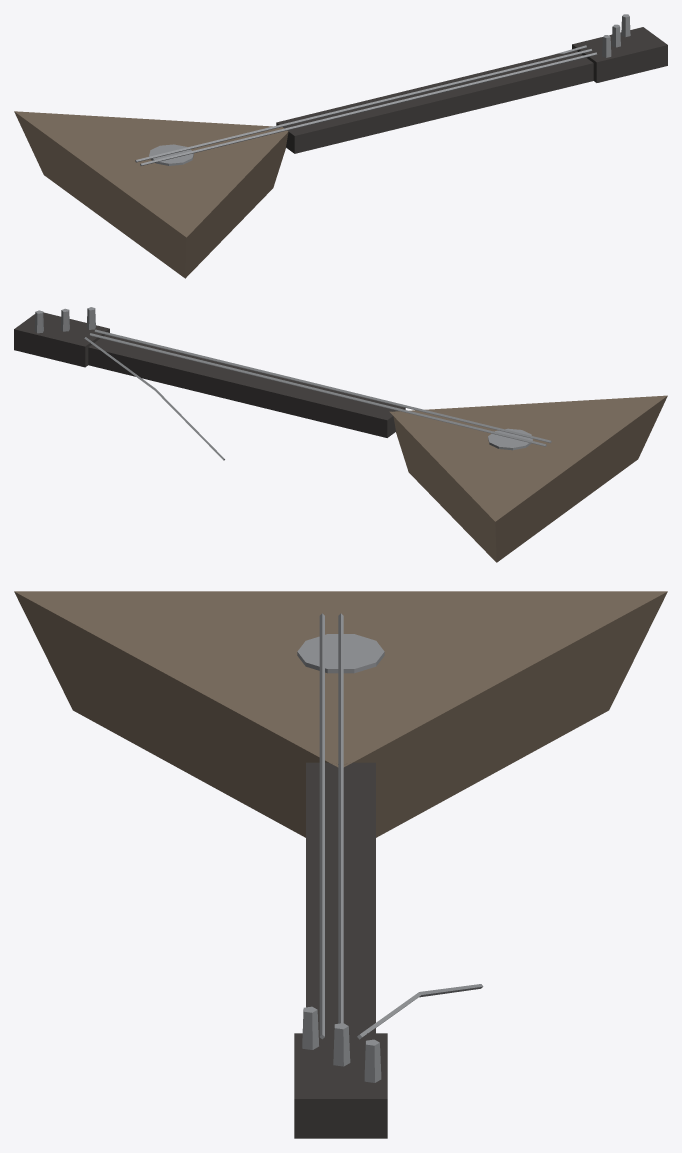
Rendered from Balalaika.fbx.
3 renders of one model, top to bottom at view 1: azimuth 30°, elevation 25°; view 2: azimuth 150°, elevation 25°; view 3: azimuth 270°, elevation 25°, orthographic. The views are drawn at different scales.
Visible parts, largest first — view 1: Balalaika; view 2: Balalaika; view 3: Balalaika.
Part boxes in pixels (bbox=[...]): Balalaika: bbox=[14, 14, 667, 278]; Balalaika: bbox=[14, 307, 667, 562]; Balalaika: bbox=[14, 591, 667, 1138].
Size of the model in its own units: 78 by 10.5 by 42.
